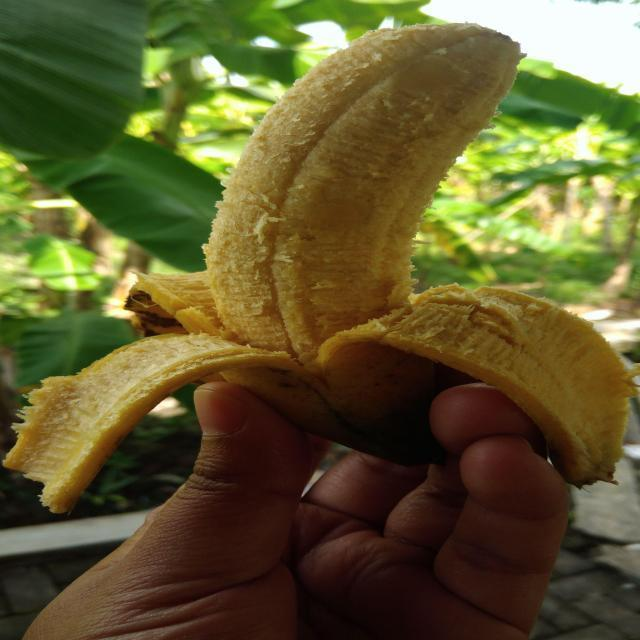Banana: (13, 19, 628, 514)
